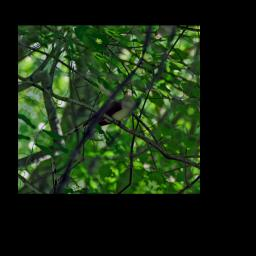Cuckoo: (58, 69, 143, 161)
